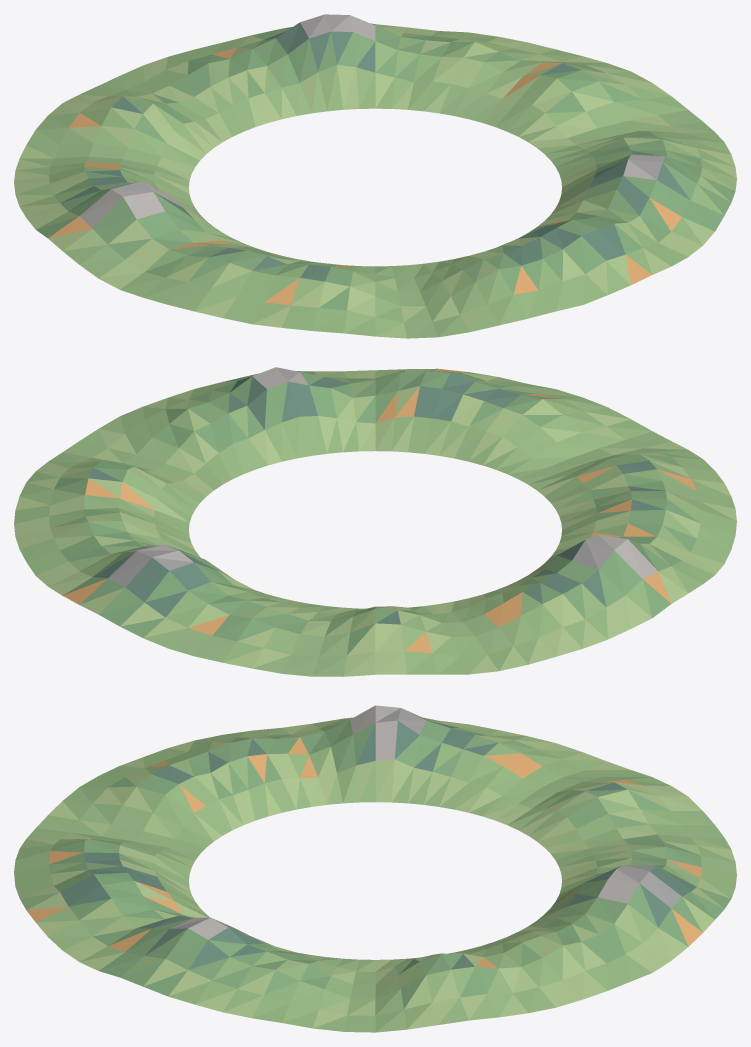
Rendered from bg_hills_ring.glb.
3 views of the same model, one above another, from view 1: azimuth 30°, elevation 25°; view 2: azimuth 150°, elevation 25°; view 3: azimuth 270°, elevation 25° (orthographic).
Parts seen in each view (by area): view 1: bg_hills_ring; view 2: bg_hills_ring; view 3: bg_hills_ring.
Boxes of the visible parts, <box> form: bg_hills_ring: <box>14,14,736,338</box>; bg_hills_ring: <box>14,367,736,676</box>; bg_hills_ring: <box>14,705,736,1032</box>.
Bounding box in the file's own units: 1240 × 99.45 × 1240.
